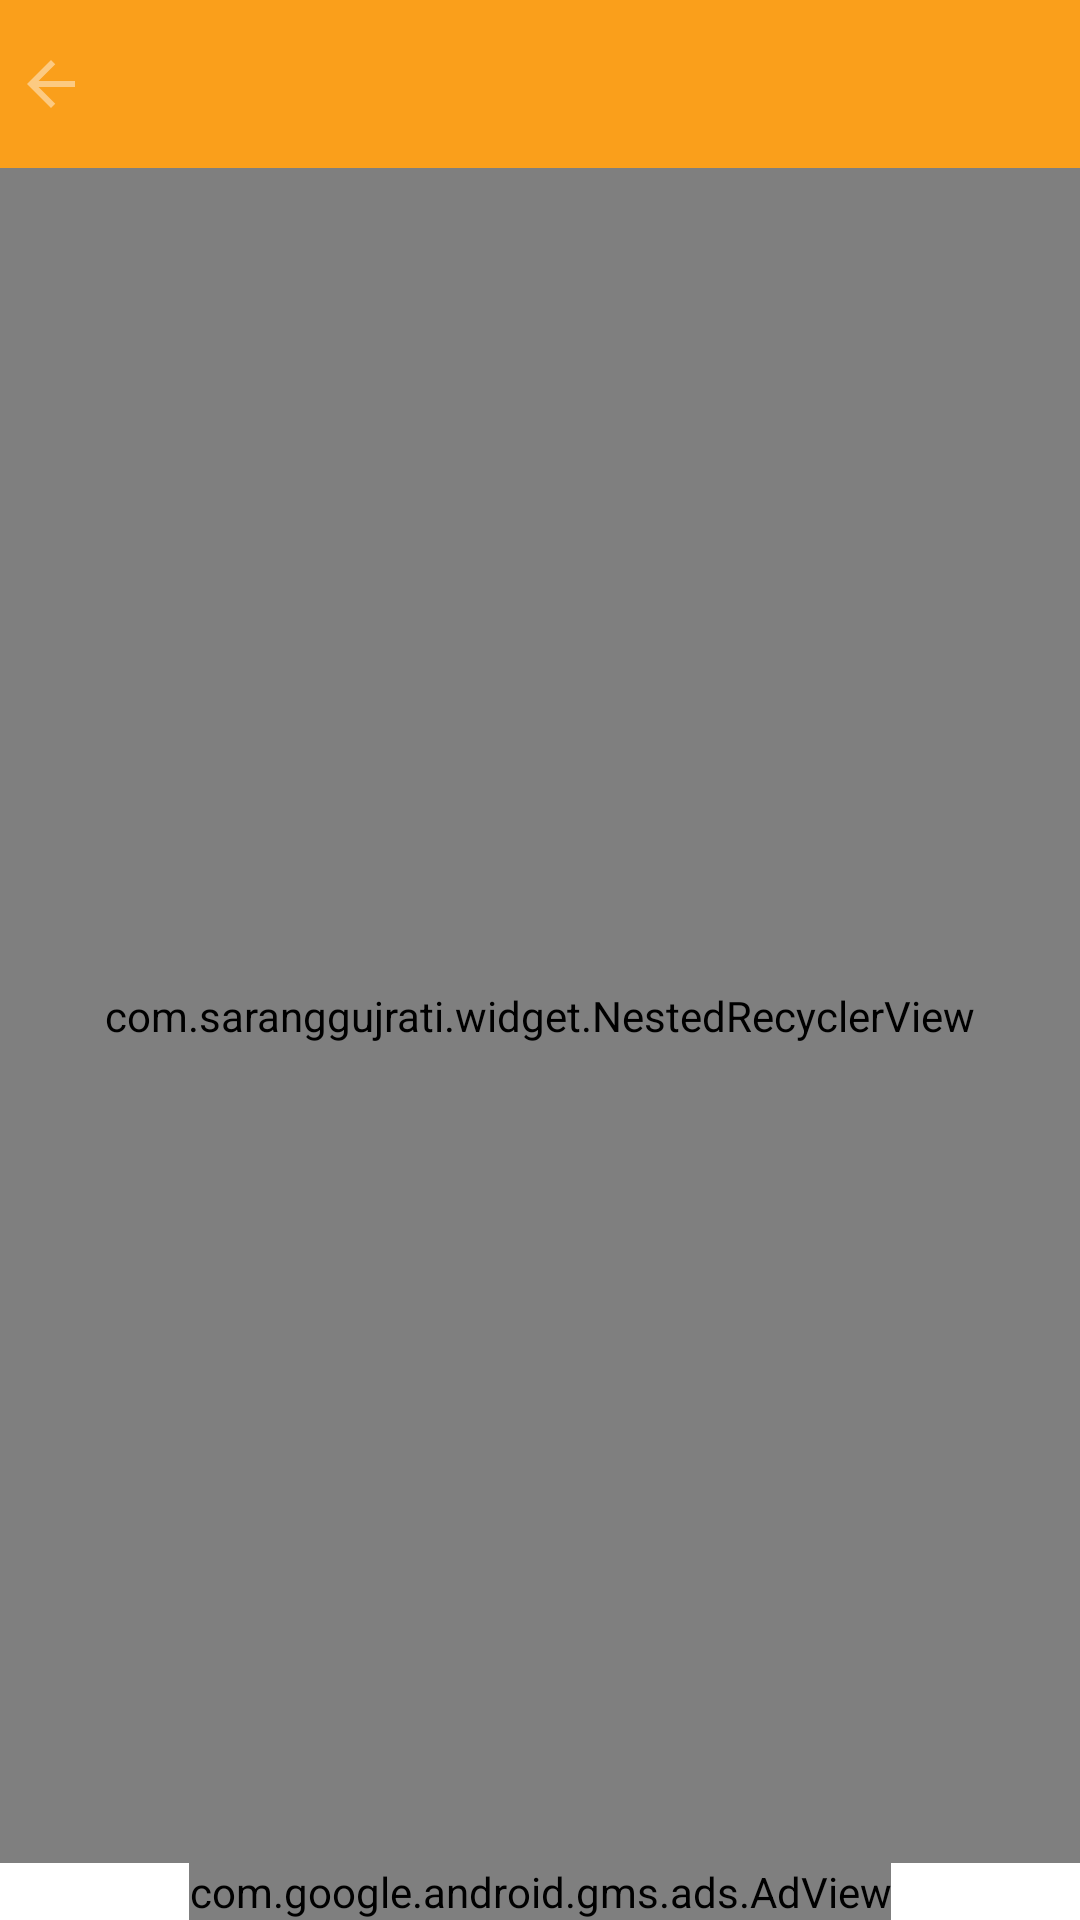

Icon click points for this 1080w x 1920h phone screenshot, format [x,y]:
back: [51,84]
